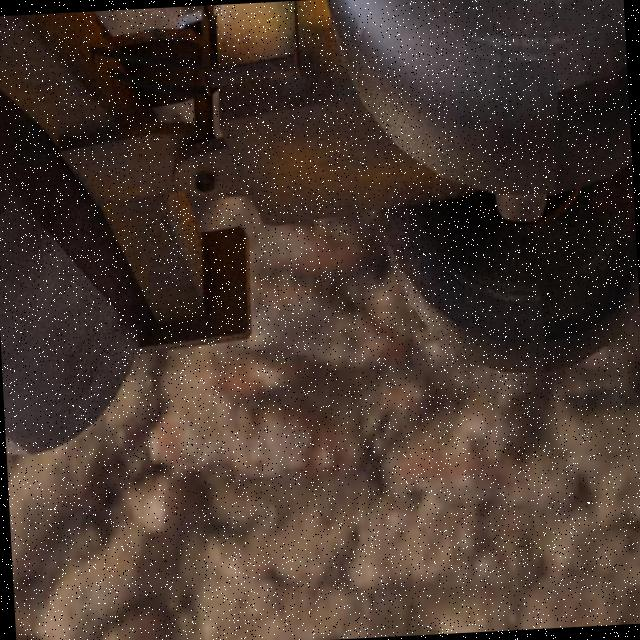Roller: (0, 0, 640, 457)
